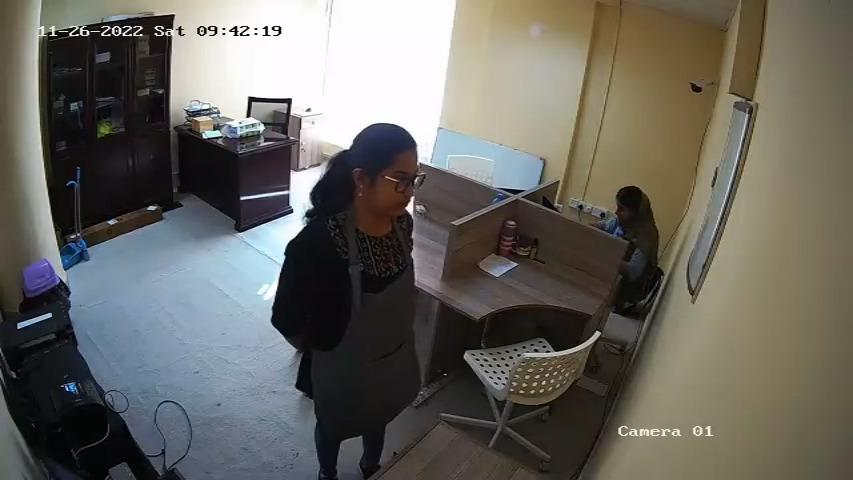apron: (317, 223, 411, 420)
